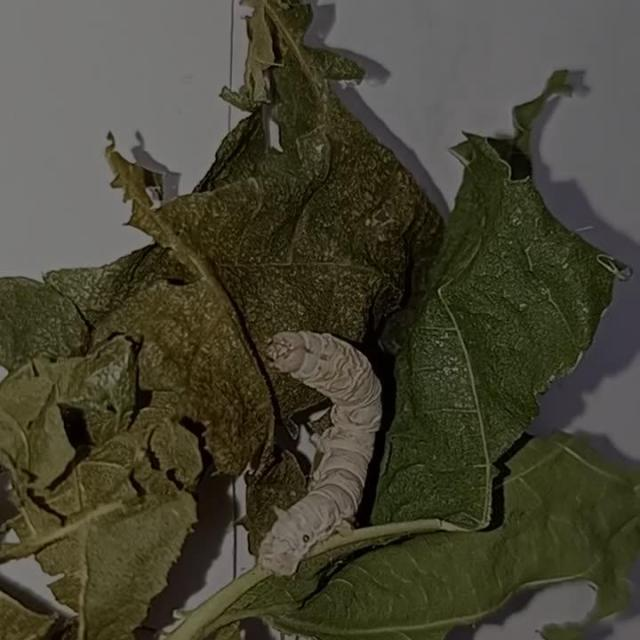Healthy: (230, 289, 450, 593)
